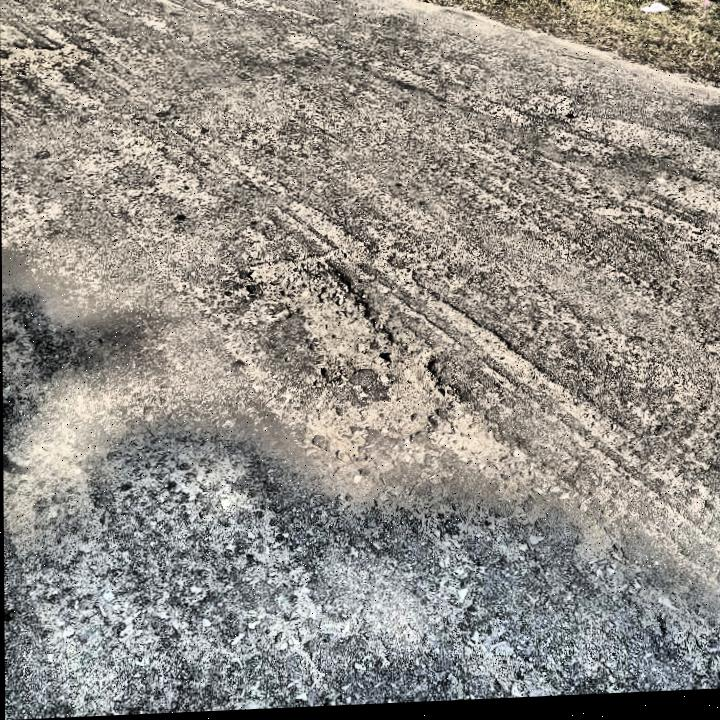pothole: (243, 251, 458, 464)
